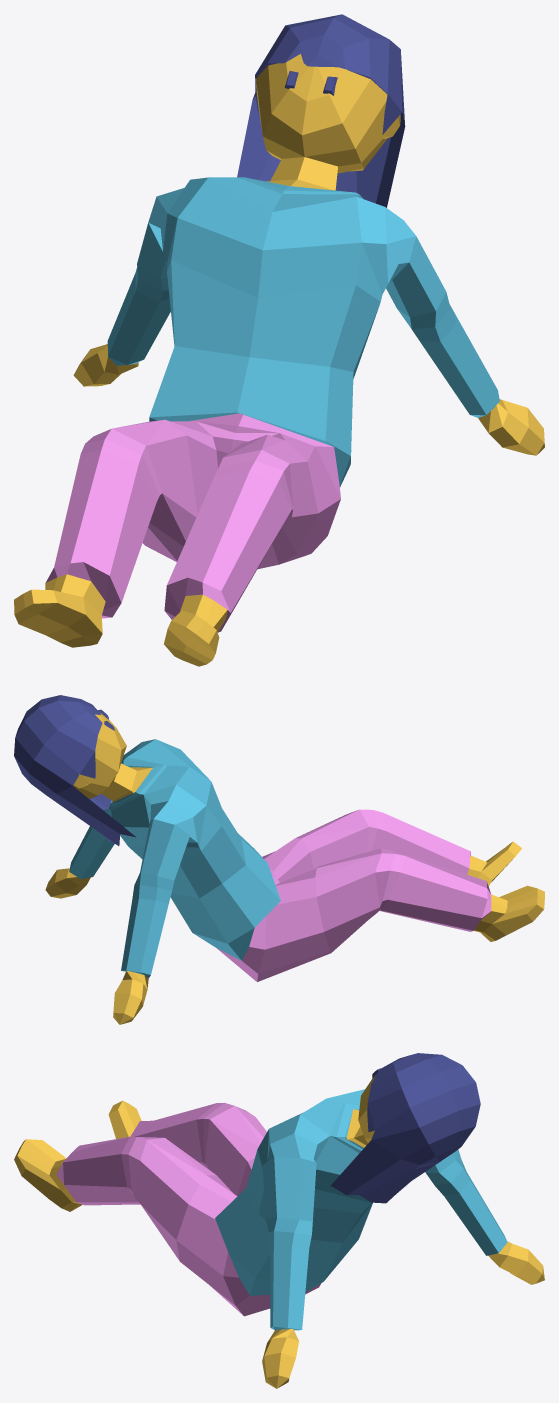
The model's file is 097_店員(Woman)002.glb.
The picture shows the model from 3 angles, top to bottom: view 1: azimuth 30°, elevation 25°; view 2: azimuth 150°, elevation 25°; view 3: azimuth 270°, elevation 25°; orthographic projection. The views are drawn at different scales.
Parts seen in each view (by area): view 1: 立方体021_4, 立方体021_2, 立方体021_1, 立方体021, 立方体021_3; view 2: 立方体021_2, 立方体021_4, 立方体021, 立方体021_1, 立方体021_3; view 3: 立方体021_4, 立方体021_2, 立方体021, 立方体021_1, 立方体021_3.
Boxes of the visible parts, <box> form: 立方体021_4: <box>107,177,499,486</box>; 立方体021_2: <box>45,413,340,632</box>; 立方体021_1: <box>14,54,400,666</box>; 立方体021: <box>237,14,405,207</box>; 立方体021_3: <box>73,344,544,455</box>; 立方体021_2: <box>217,809,491,981</box>; 立方体021_4: <box>69,739,280,978</box>; 立方体021: <box>14,695,136,845</box>; 立方体021_1: <box>73,713,544,941</box>; 立方体021_3: <box>45,868,148,1024</box>; 立方体021_4: <box>215,1089,507,1330</box>; 立方体021_2: <box>56,1102,321,1316</box>; 立方体021: <box>330,1053,480,1203</box>; 立方体021_1: <box>14,1074,376,1211</box>; 立方体021_3: <box>262,1241,544,1388</box>.
Bounding box in the file's own units: 1.64 × 1.04 × 1.59.
